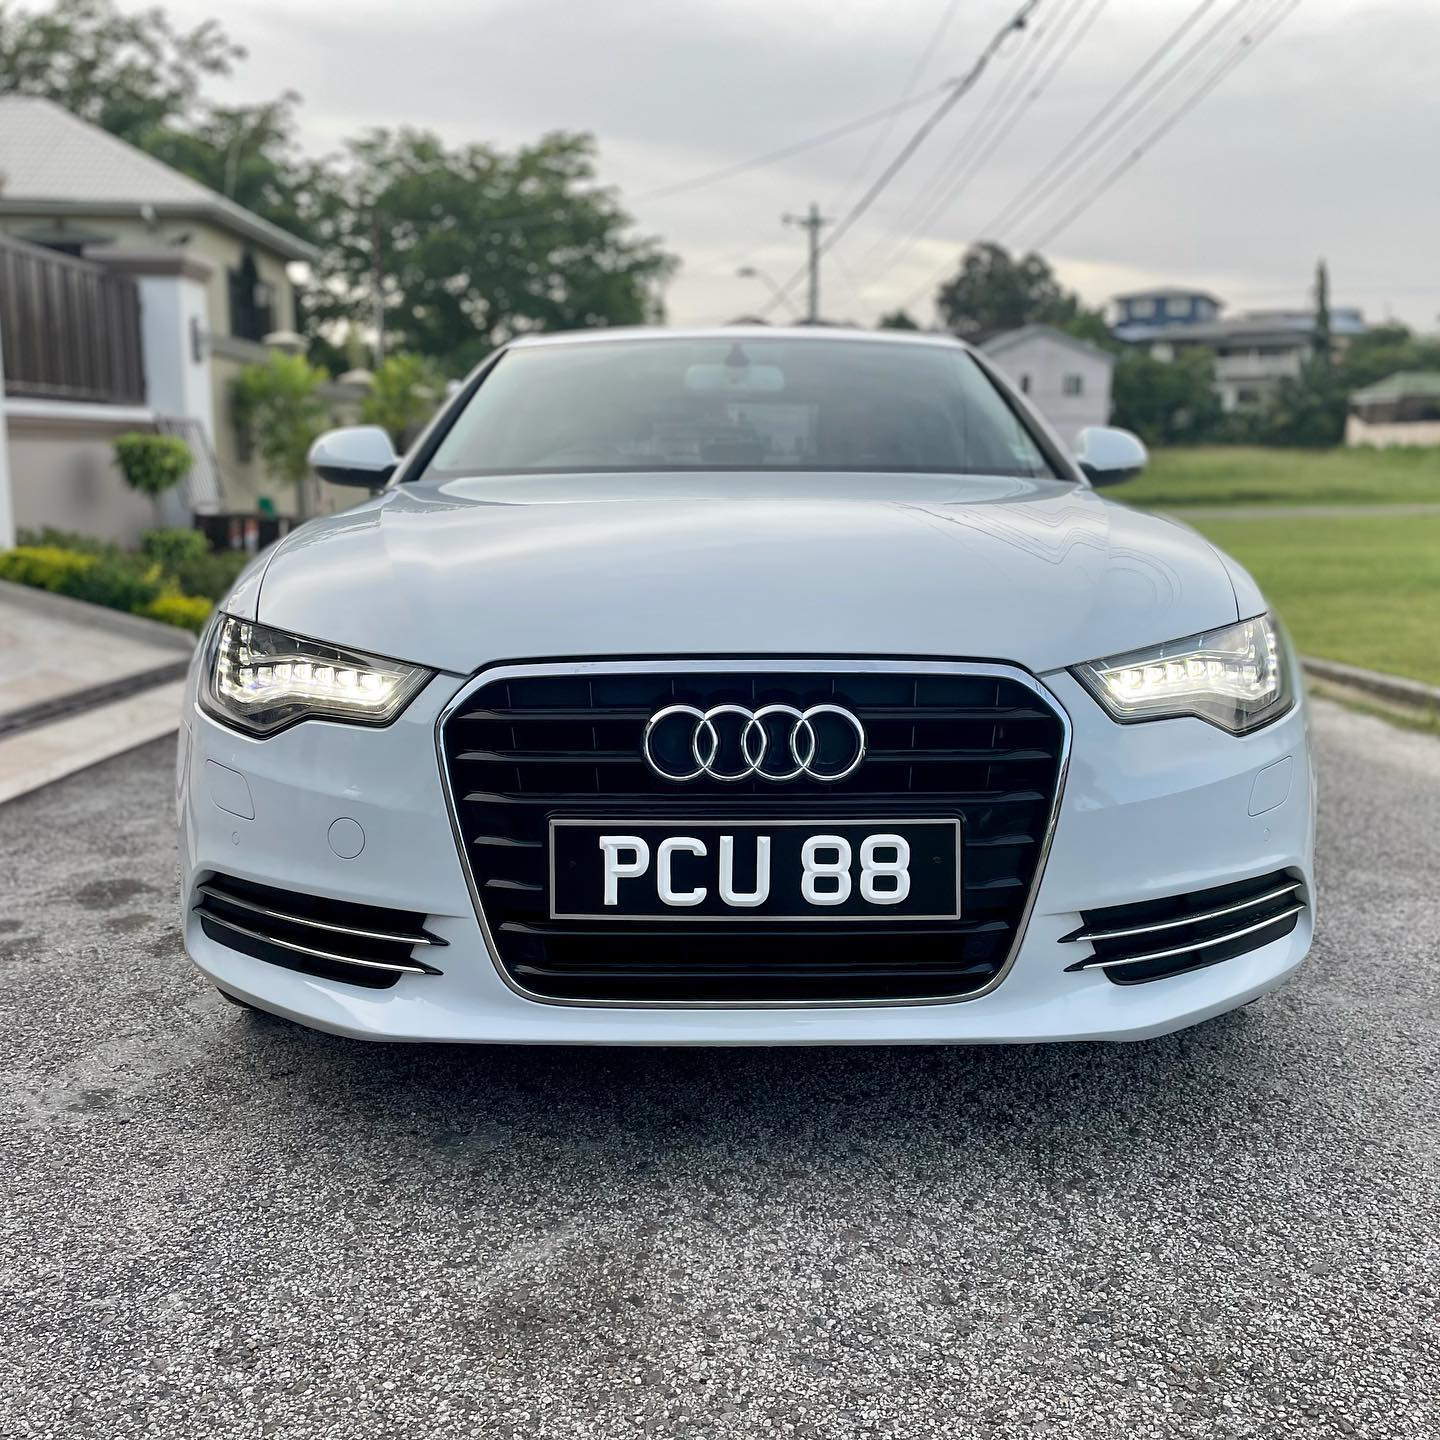License-Plate: (551, 823, 956, 917)
